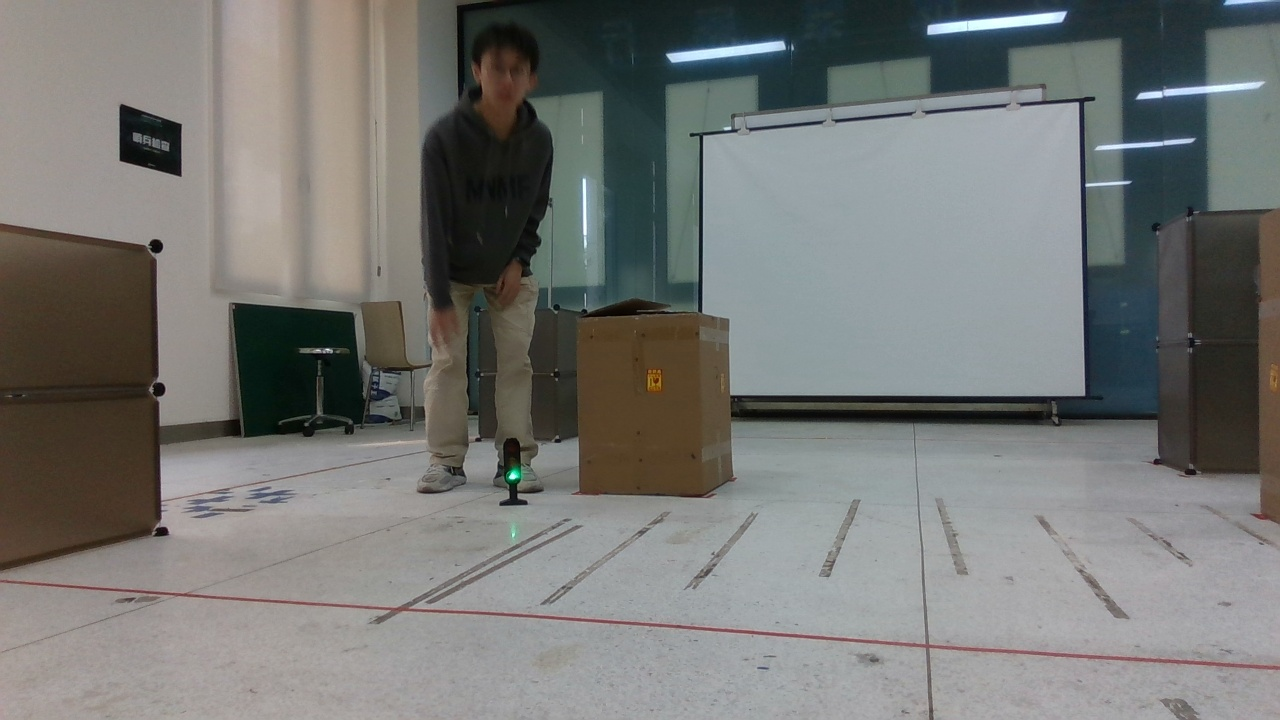green_light: (499, 430, 531, 512)
